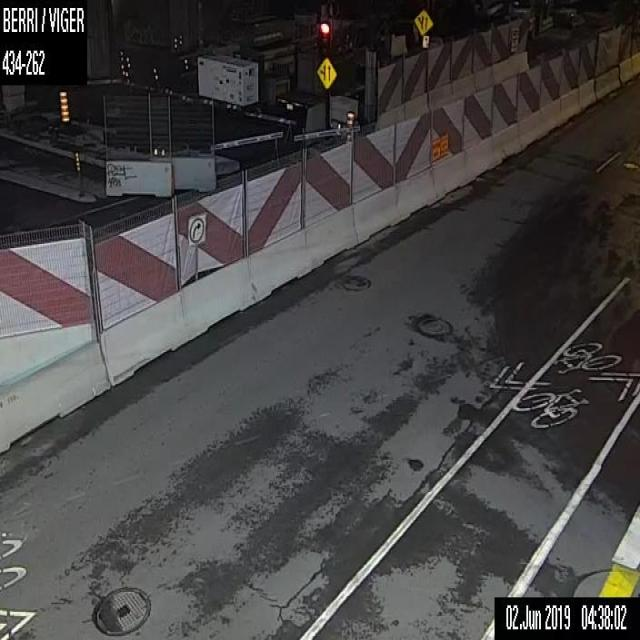construction: (57, 86, 69, 122), (344, 107, 357, 140)
